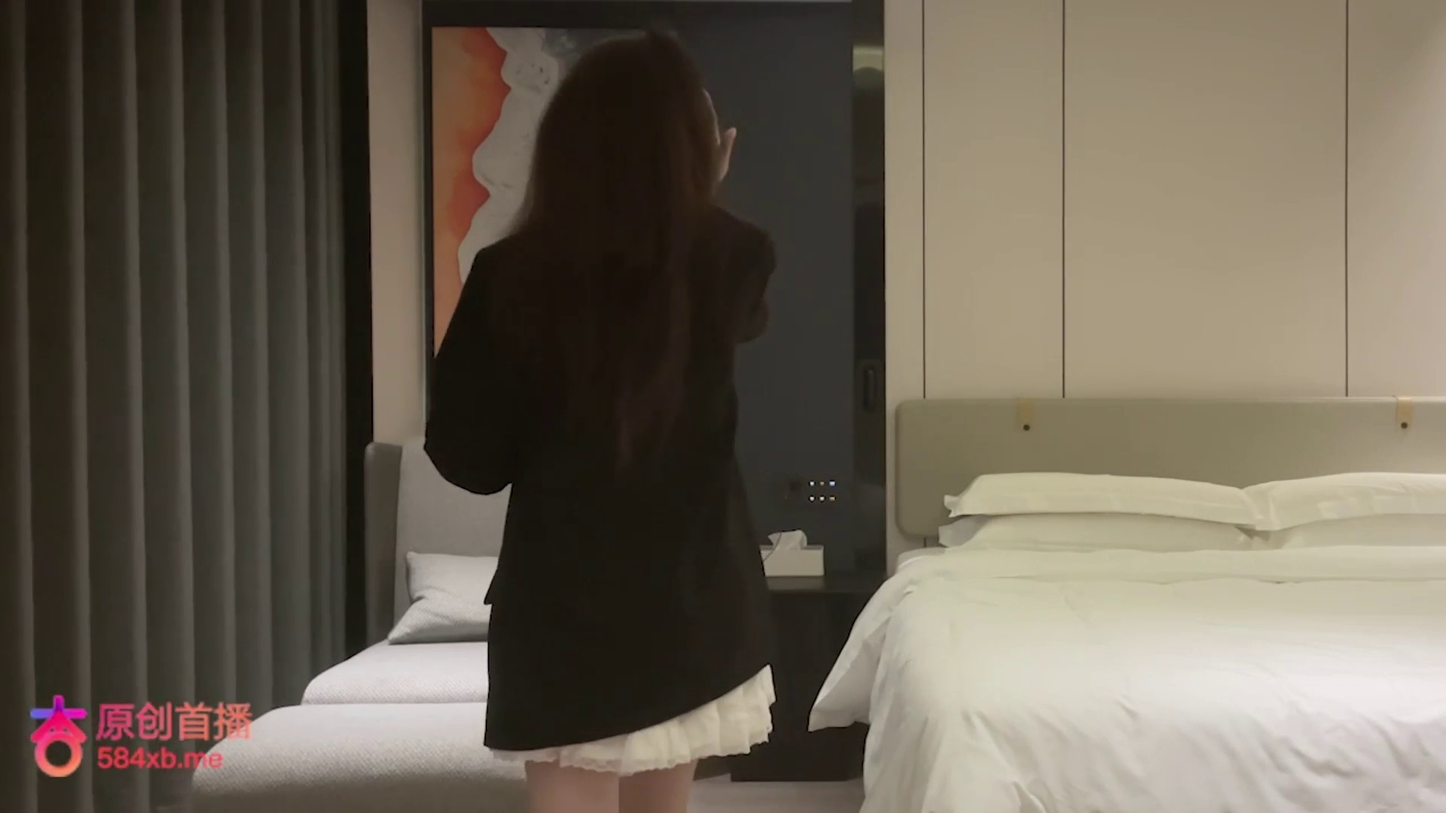stand: (422, 29, 778, 811)
